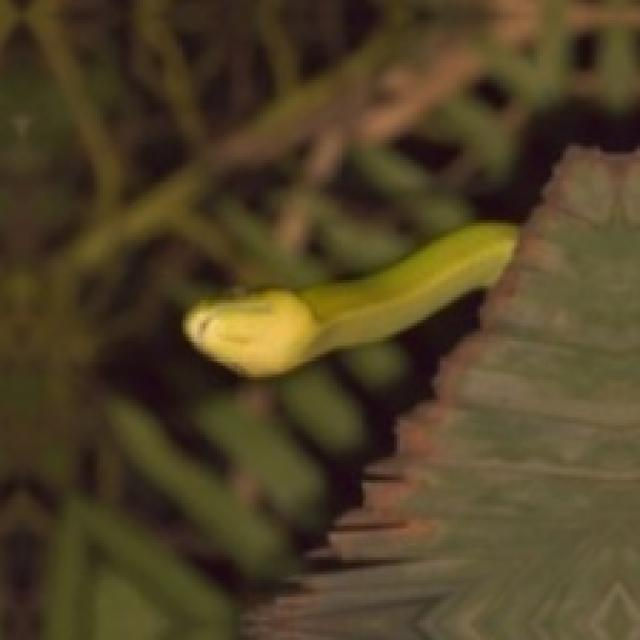red-tailed green ratsnake: (183, 223, 514, 374)
